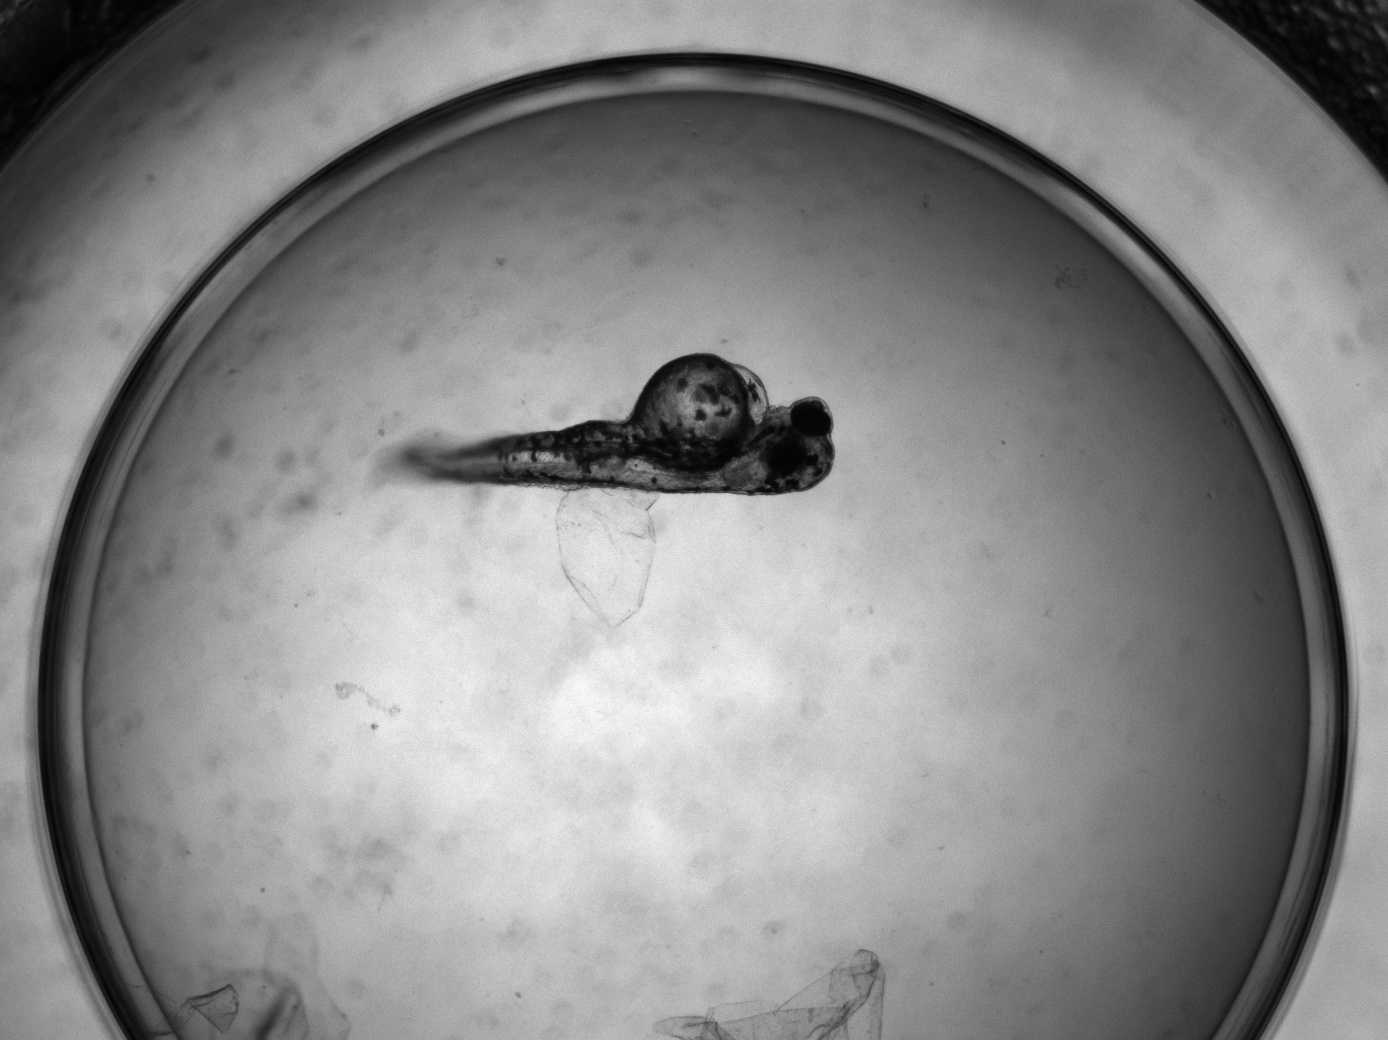debris: (648, 947, 888, 1040), (551, 486, 659, 629), (173, 972, 349, 1040)
embryo: (398, 351, 835, 495)
eye: (791, 398, 831, 438), (766, 440, 807, 476)
yolksac: (634, 352, 768, 466)
